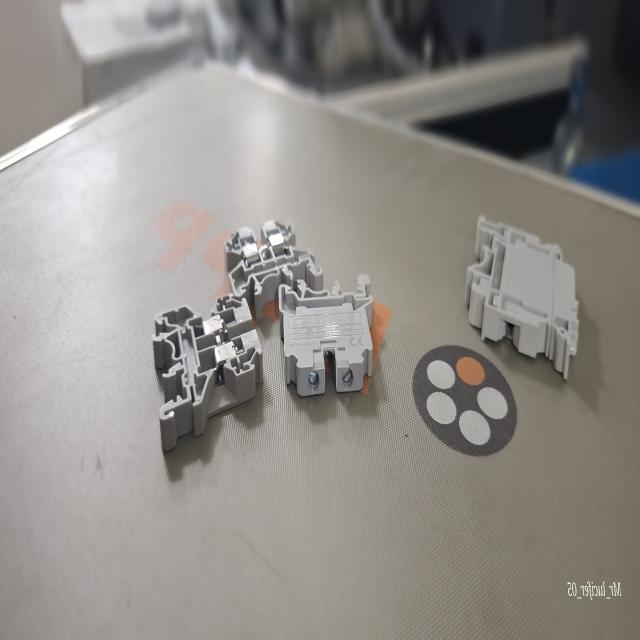Inverted: (274, 265, 378, 427)
Pass: (150, 270, 266, 474), (226, 180, 318, 318)
